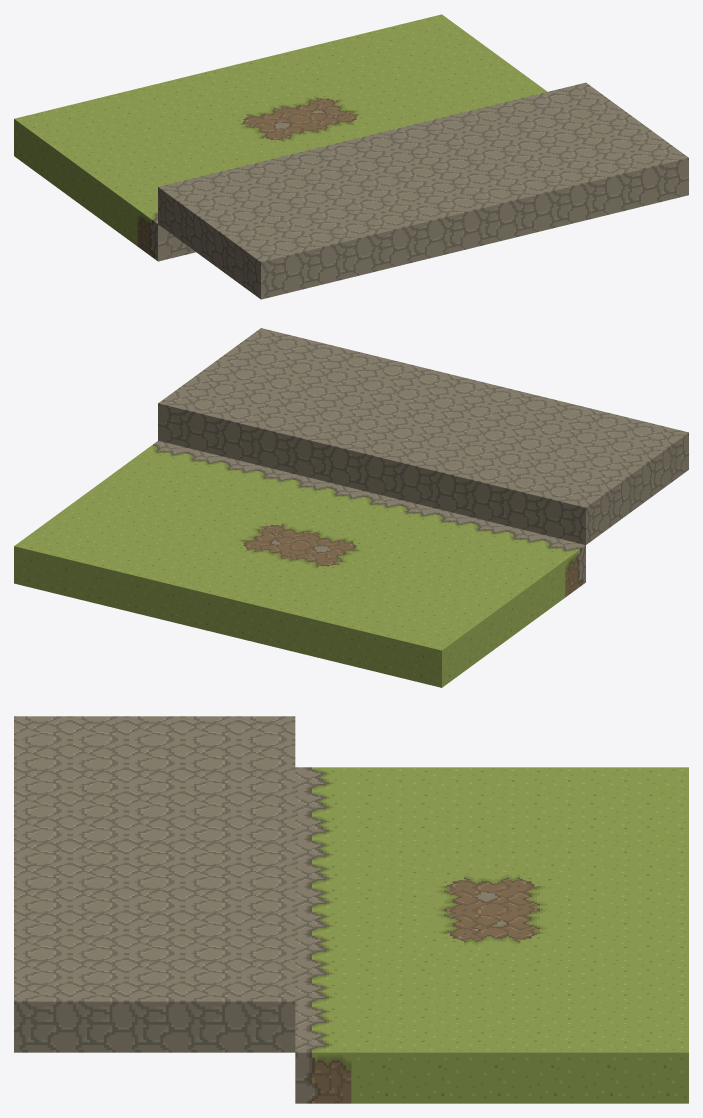
The model's file is map1.48.vox.obj.
The picture shows the model from 3 angles, top to bottom: view 1: azimuth 30°, elevation 25°; view 2: azimuth 150°, elevation 25°; view 3: azimuth 270°, elevation 25°; orthographic projection. The views are drawn at different scales.
Size of the model in its own units: 24 by 4 by 24.
Materials: 1 (1 with a texture image).
